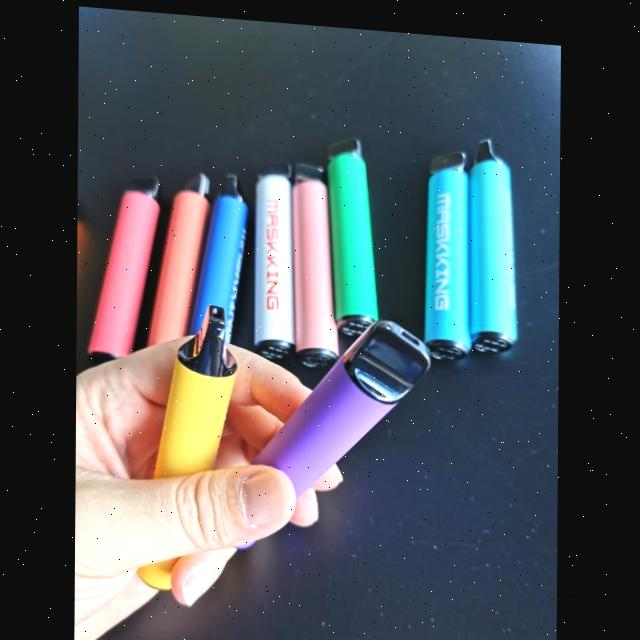vape: (253, 304, 433, 504), (139, 295, 240, 593), (89, 173, 160, 369), (148, 165, 213, 348), (325, 129, 381, 332), (469, 128, 520, 348), (190, 165, 251, 336), (291, 156, 341, 364), (425, 140, 471, 358), (253, 155, 296, 357)
